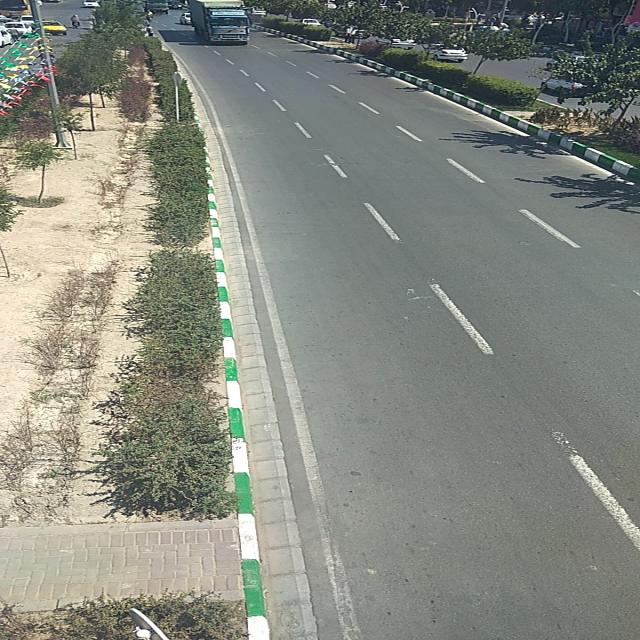car: (428, 46, 463, 62), (382, 38, 418, 50), (39, 22, 69, 34)
truck: (186, 0, 255, 44)
